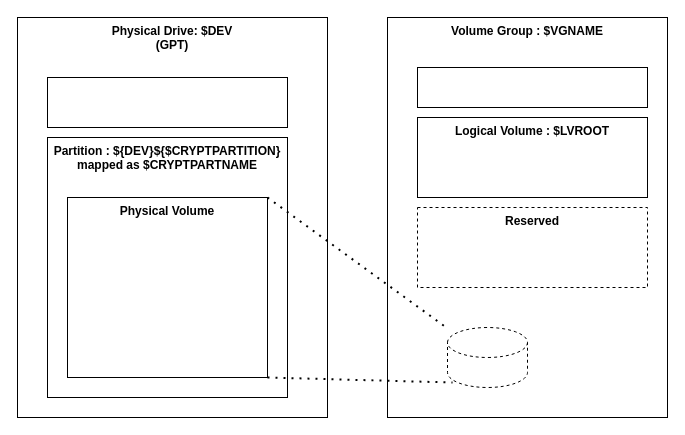
Some shapes in this 685 by 435 pixel diagram are drawn without their labels. Each missing label, with the centre of its shape:
Logical Volume : $LVSWAP: the point at 532,87
Partition : ${DEV}${EFIPARTITION}: the point at 167,102
PV: the point at 487,357
